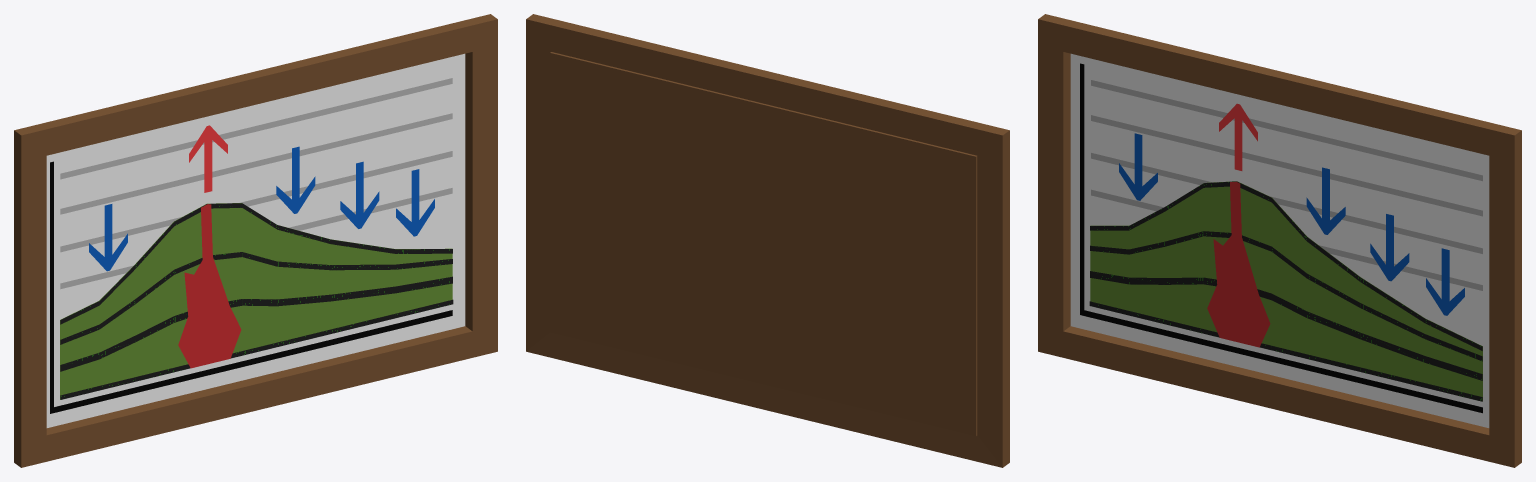
Rendered from l_picture_painting_1.glb.
3 views of the same model, side by side, from view 1: azimuth 30°, elevation 25°; view 2: azimuth 150°, elevation 25°; view 3: azimuth 330°, elevation 25° (orthographic).
Parts seen in each view (by area): view 1: Plane.007; view 2: Plane.007; view 3: Plane.007.
Boxes of the visible parts, x1,y1,x2,y2 form: Plane.007: (14, 14, 497, 467); Plane.007: (526, 14, 1009, 467); Plane.007: (1038, 14, 1521, 467).
Size of the model in its own units: 1.32 by 0.88 by 0.0408.
1 material, 1 textured.
